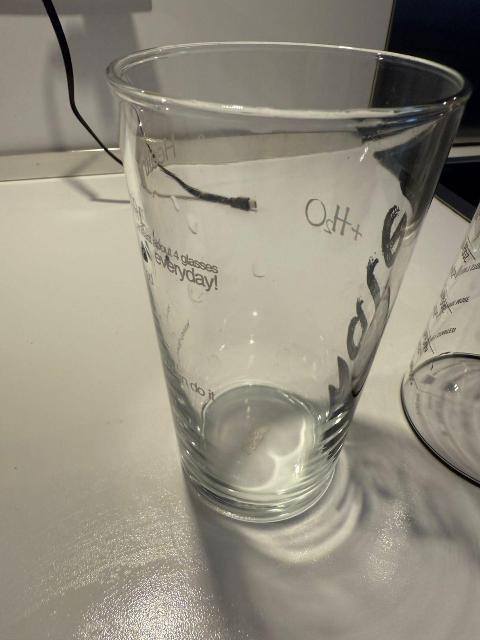Cam: (108, 44, 456, 524), (395, 189, 480, 512)
